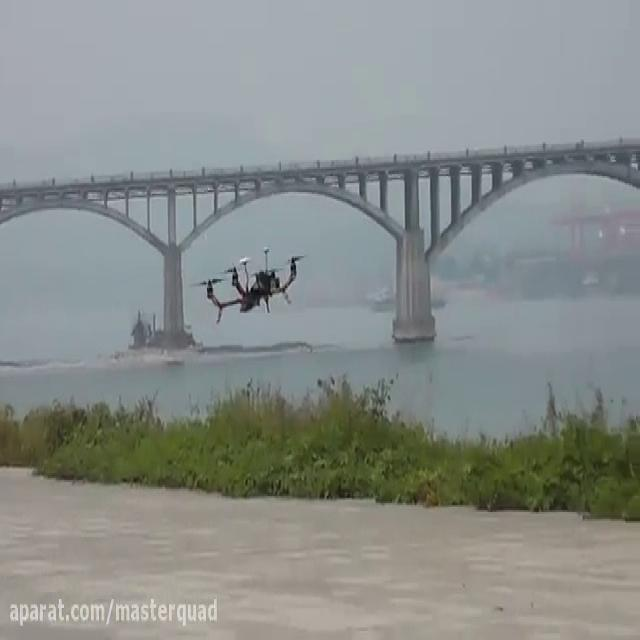drone: (187, 240, 308, 327)
